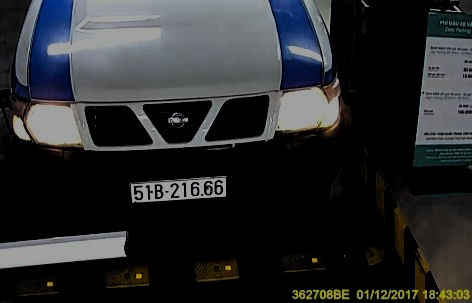plate: (126, 173, 230, 203)
